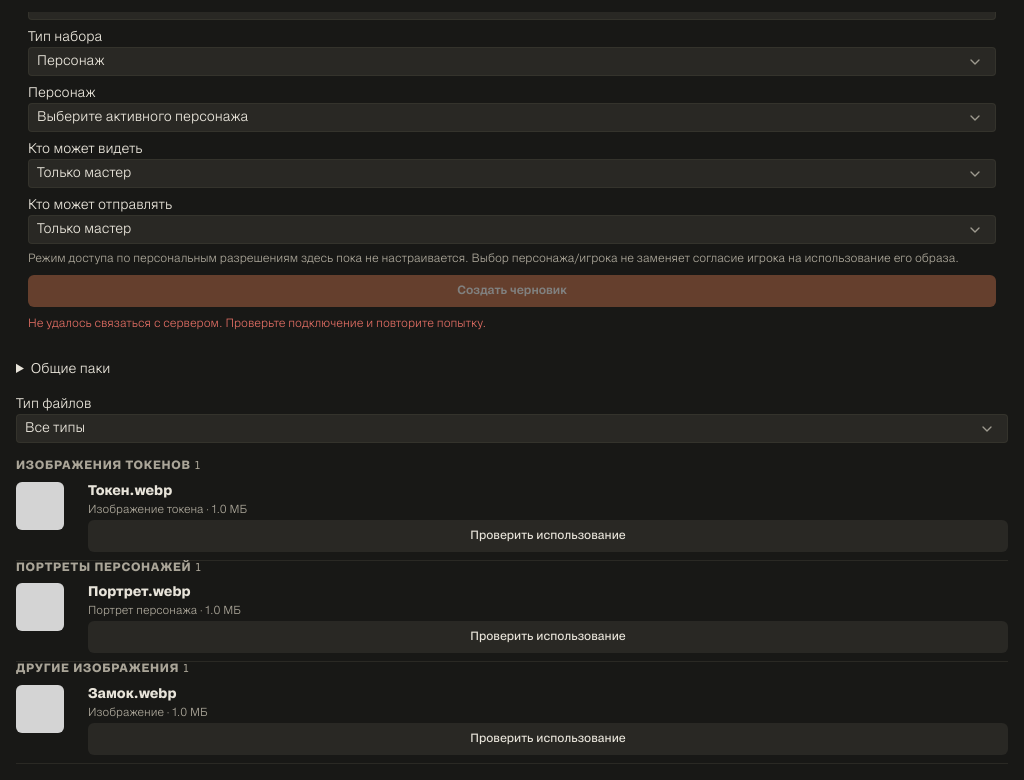
Test case: MediaPanel upload sections by role › groups assets by type, filters to one exact type, and restores all groups
(page scrolled)
Expected: the element named "Файлы: Другие изображения" is shown, [16,662,1008,764]
Expected: the element named "Файлы: Изображения токенов" is shown, [16,459,1008,561]
Select "Изображения токенов" in the dropdown named "Фильтр файлов по типу" at (512, 429), box [16,414,1008,443]
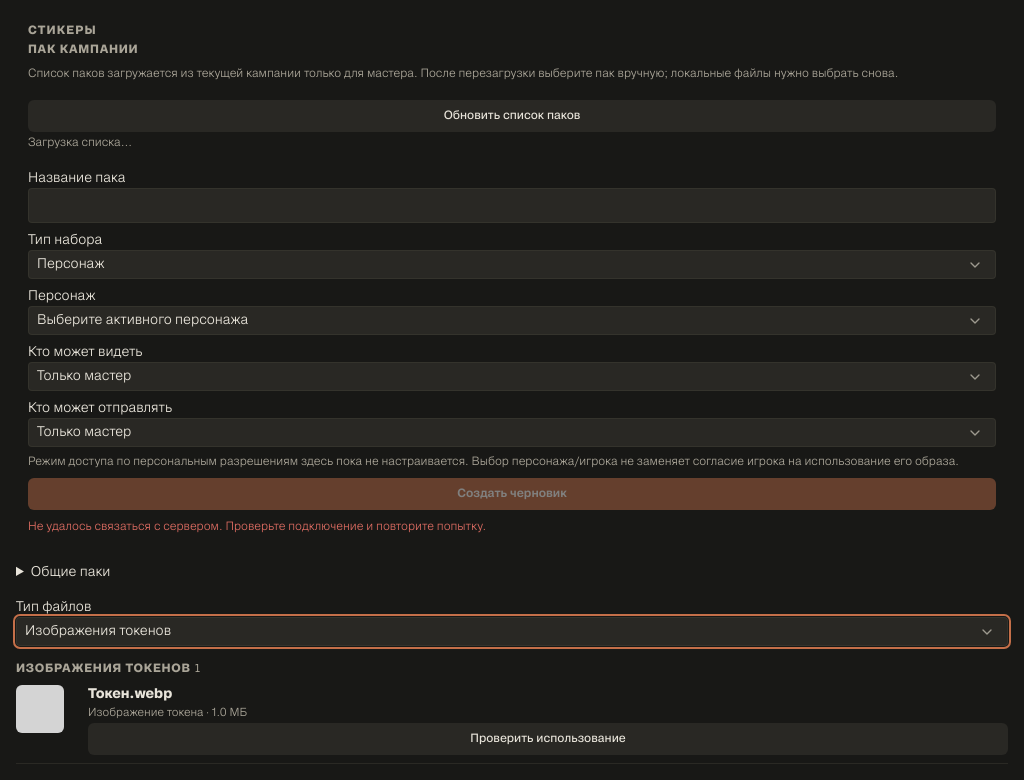
Expected: the text "Токен.webp" is shown, [88,688,172,701]
Now the text "Замок.webp" is gone
Now the text "Портрет.webp" is gone
Select "Все типы" in the dropdown named "Фильтр файлов по типу" at (512, 632), box [16,617,1008,646]
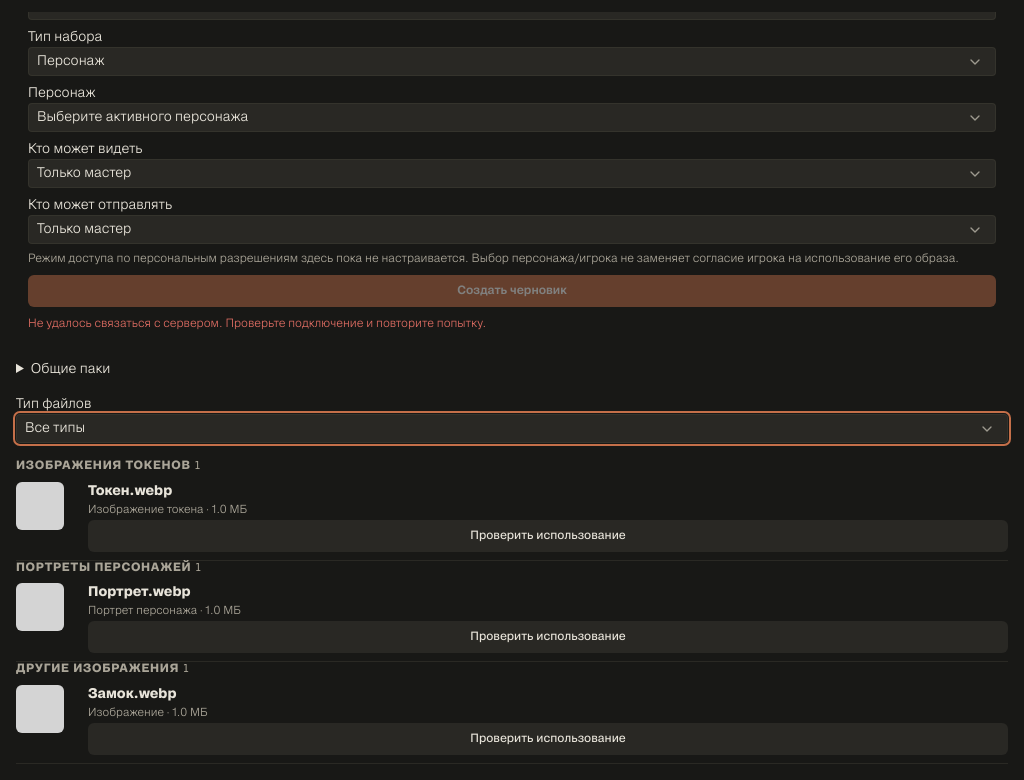
Expected: the text "Токен.webp" is shown, [88,485,172,498]
Now the text "Замок.webp" is shown, box [88,688,176,701]
Now the text "Портрет.webp" is shown, box [88,586,190,599]
